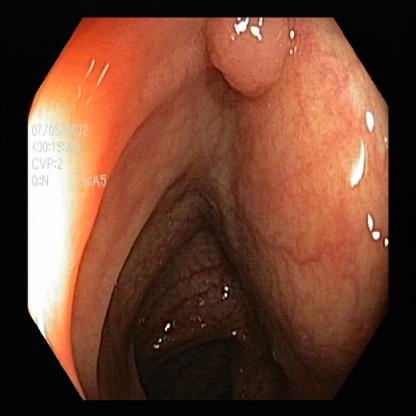Labels: (30, 117, 120, 202)
Polyps: (276, 128, 384, 336), (212, 17, 302, 90)
